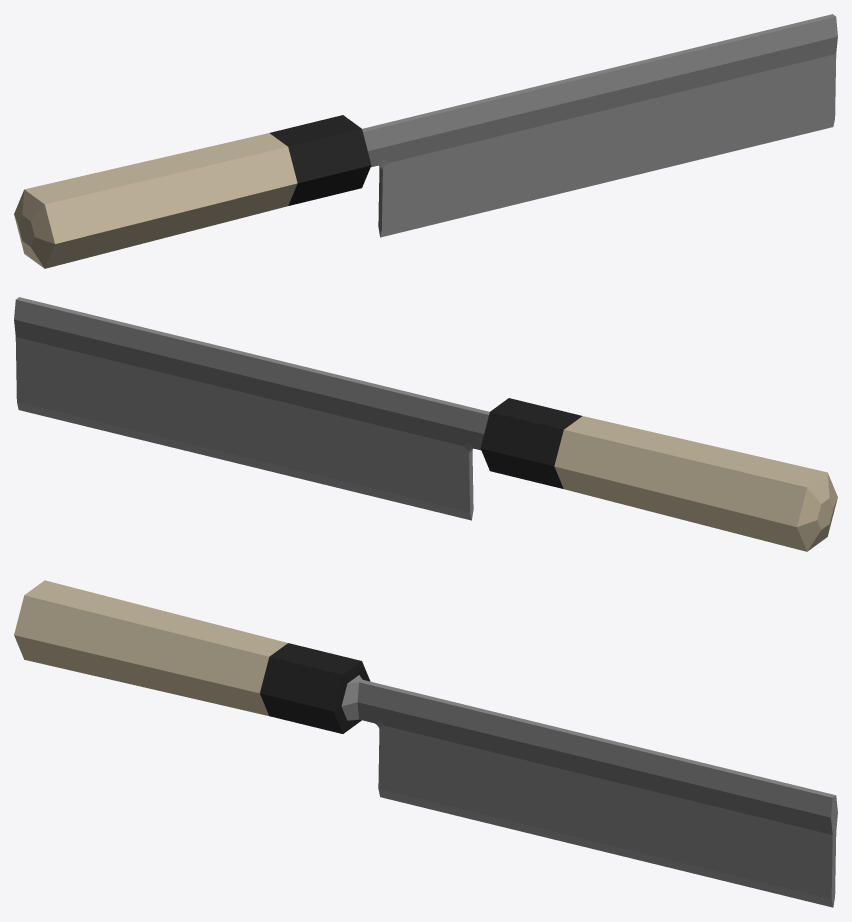
File: Vegetable Knife.fbx
3 views of the same model, one above another, from view 1: azimuth 30°, elevation 25°; view 2: azimuth 150°, elevation 25°; view 3: azimuth 330°, elevation 25° (orthographic).
Parts seen in each view (by area): view 1: Usuba; view 2: Usuba; view 3: Usuba.
Part boxes in pixels (x1,y1,x2,y2): Usuba: [14, 14, 837, 268]; Usuba: [14, 297, 837, 551]; Usuba: [14, 580, 837, 907].
Size of the model in its own units: 63.34 by 9.37 by 5.58.
